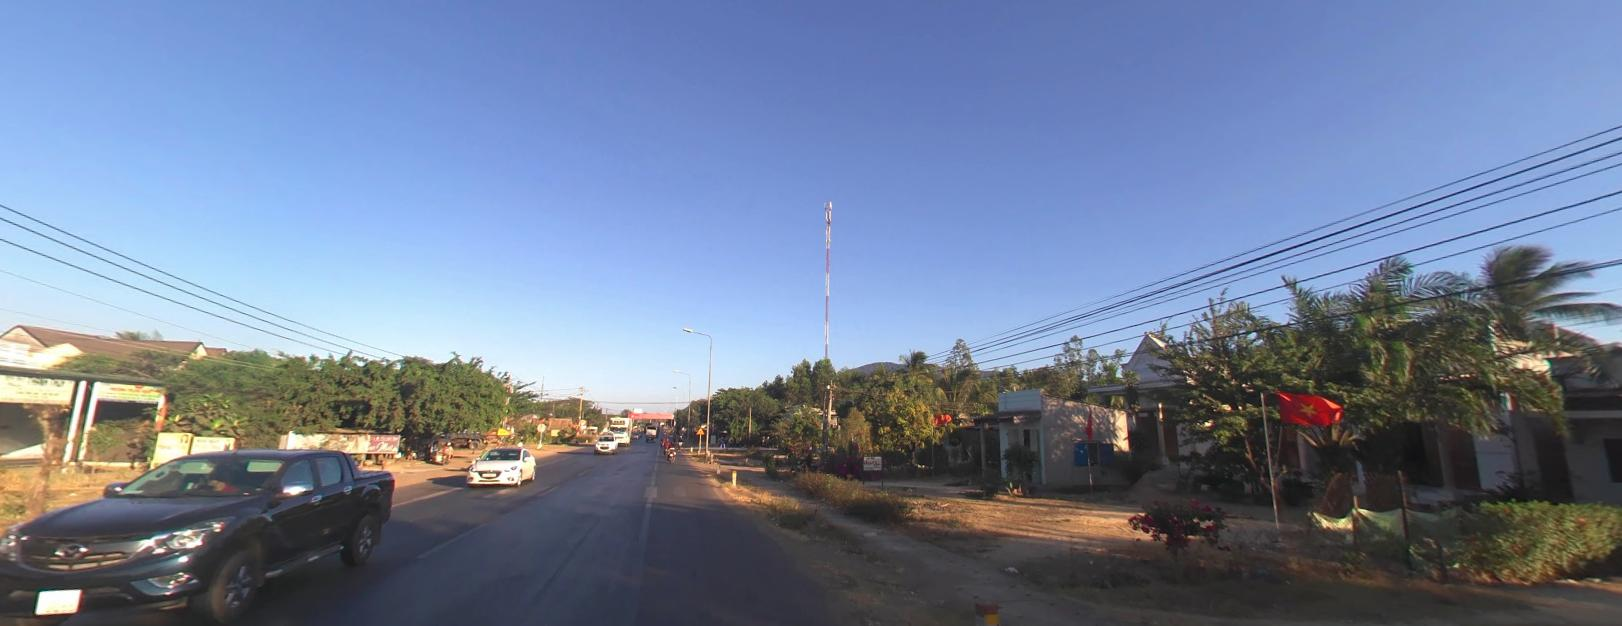Nguy hiem: (694, 425, 704, 433)
